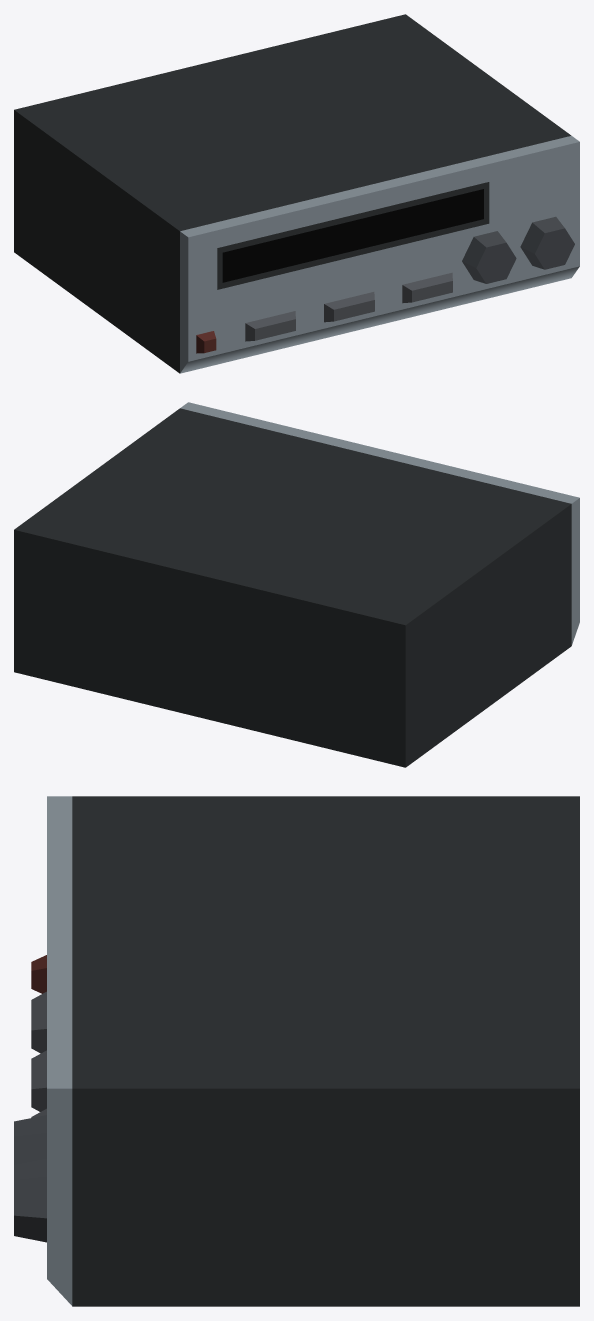
Rendered from SM_Prop_Electronics_VCR_04.glb.
3 renders of one model, top to bottom at view 1: azimuth 30°, elevation 25°; view 2: azimuth 150°, elevation 25°; view 3: azimuth 270°, elevation 25°, orthographic. The views are drawn at different scales.
Parts seen in each view (by area): view 1: SM_Prop_Electronics_VCR_04; view 2: SM_Prop_Electronics_VCR_04; view 3: SM_Prop_Electronics_VCR_04.
Part boxes in pixels (box(x1,y1,x2,y2)): SM_Prop_Electronics_VCR_04: box(14, 14, 579, 373); SM_Prop_Electronics_VCR_04: box(14, 402, 579, 767); SM_Prop_Electronics_VCR_04: box(14, 796, 579, 1306).
Size of the model in its own units: 0.7326 by 0.2546 by 0.5996.
1 material, 1 textured.
